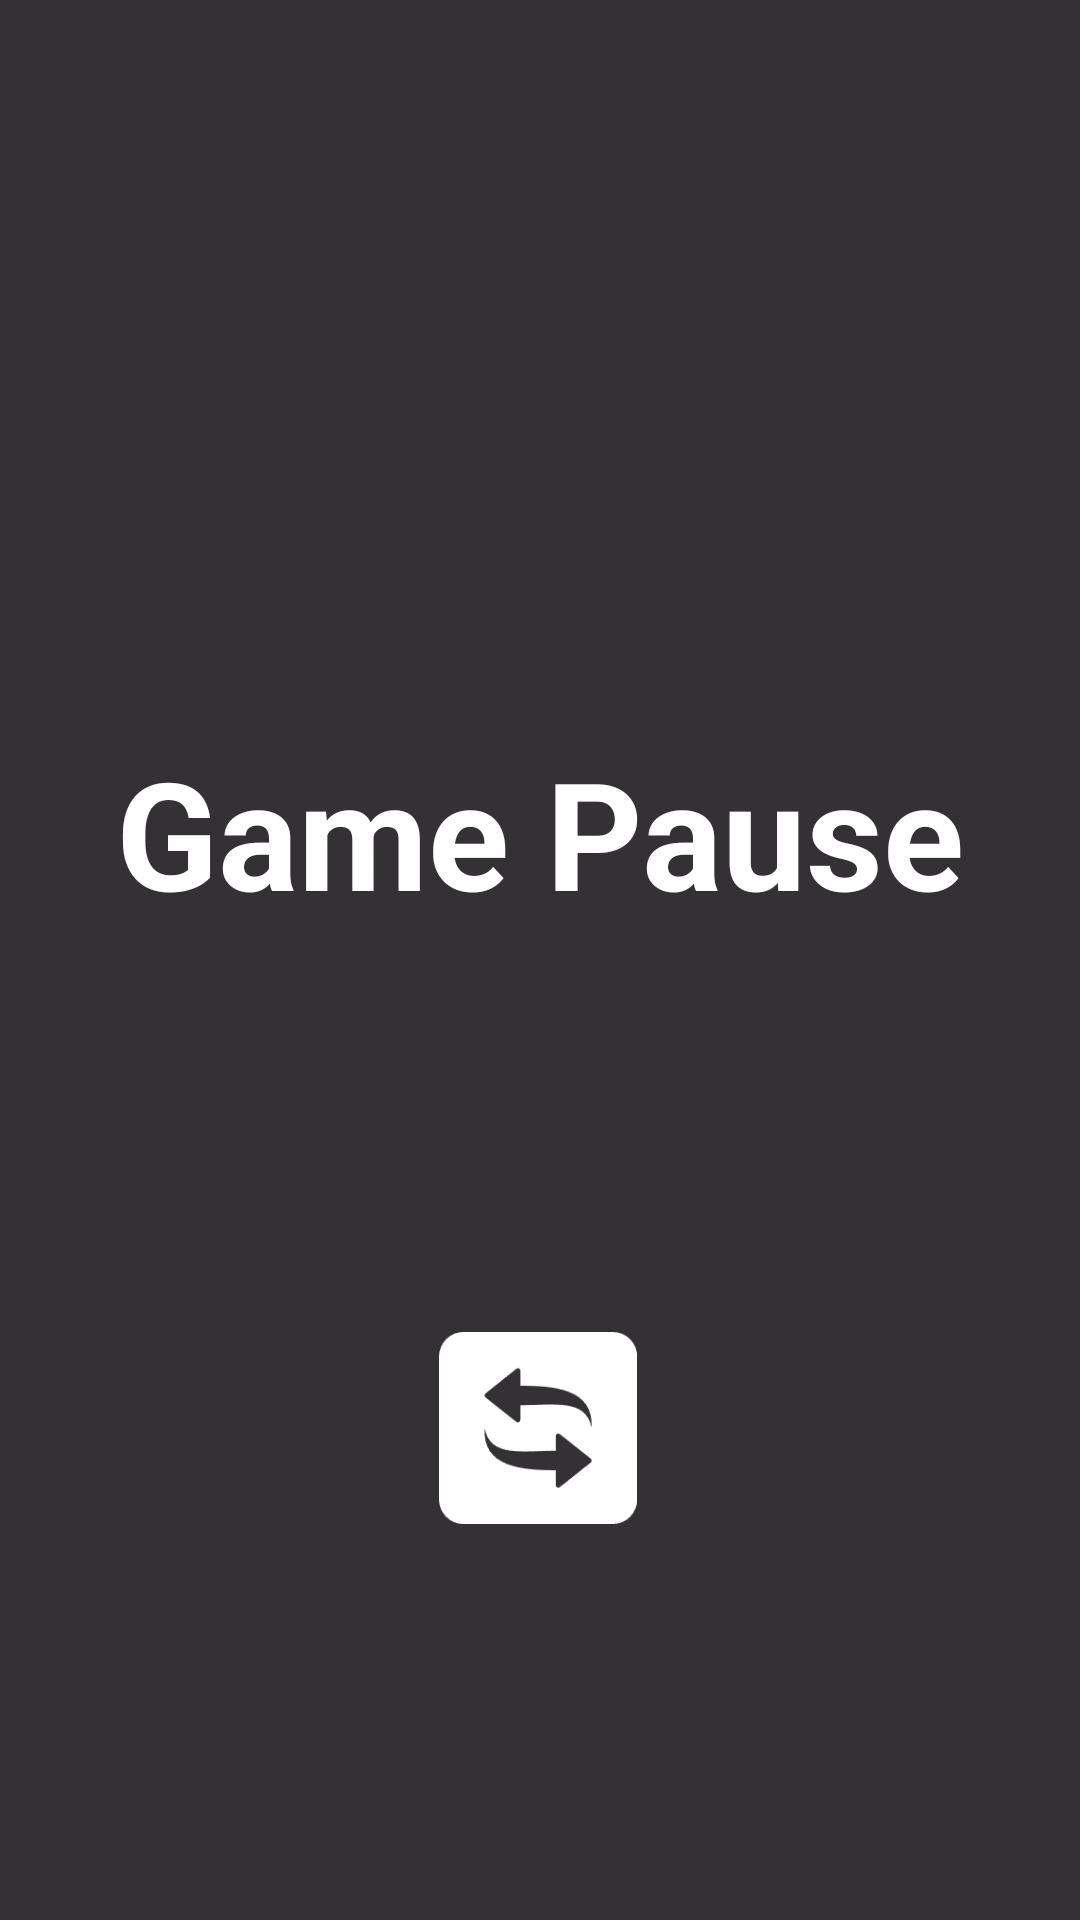

Locate icon controls on the screen. Image size 1080px×1920px, boxes as {"left": x1, "top": y1, "right": x2, "bottom": y2}.
restart: {"left": 439, "top": 1332, "right": 637, "bottom": 1524}
